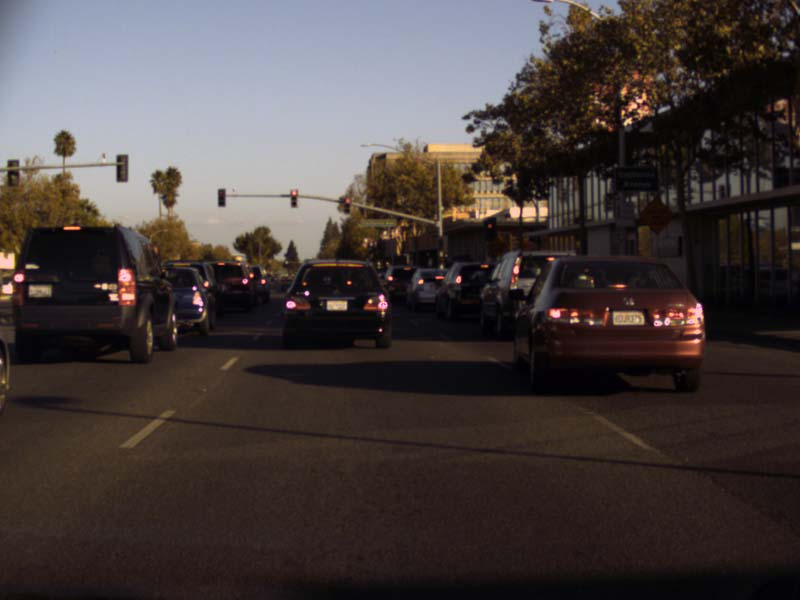Red: (483, 217, 496, 237), (217, 188, 225, 206), (290, 189, 297, 207), (343, 197, 350, 212)
